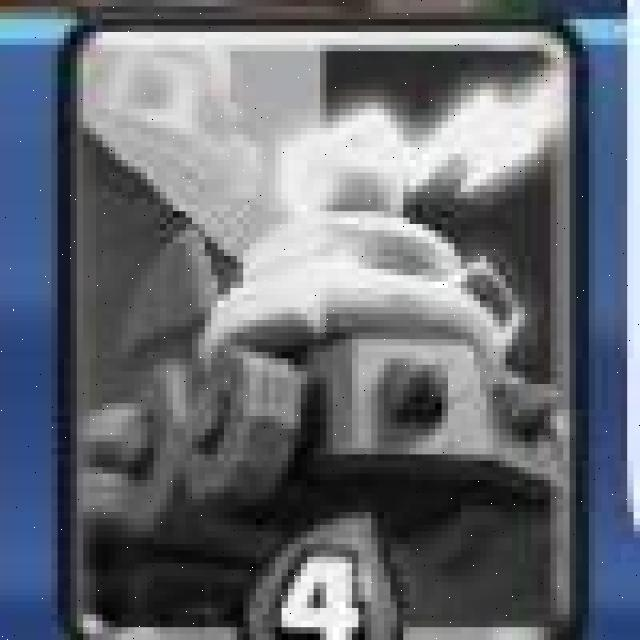Zappies: (55, 22, 586, 640)
